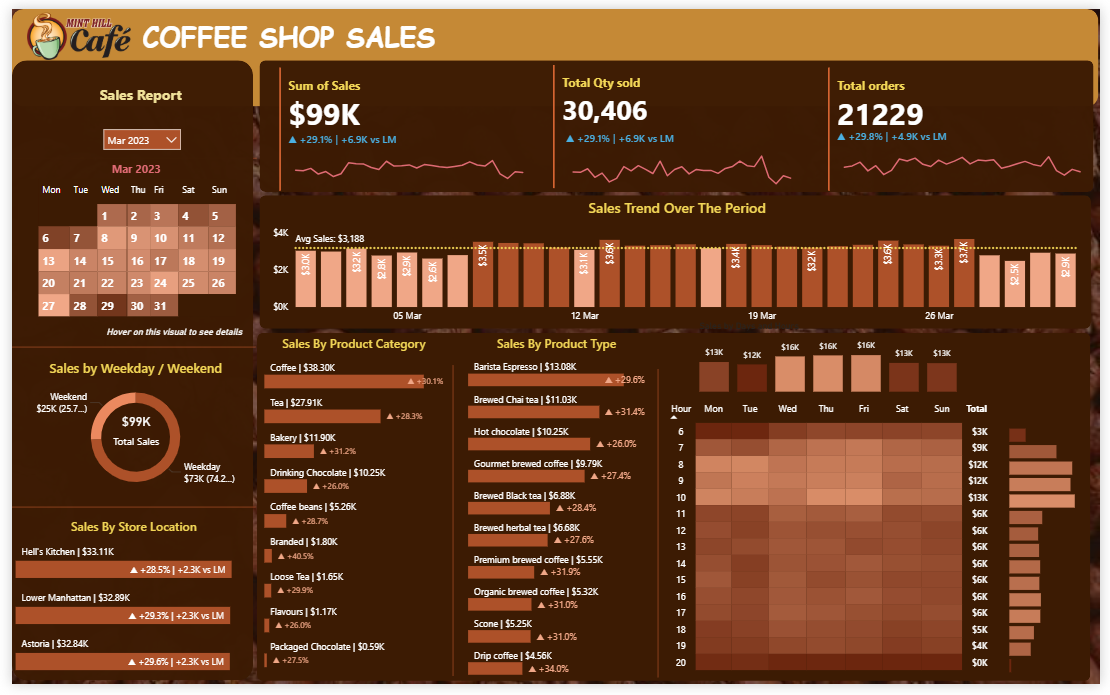

The dashboard page shown, as its layout file describes it:
{"tool":"powerbi","page":{"name":"Dashboard ","canvas":[1450,900],"ordinal":2},"visuals":[{"type":"cardVisual","fields":{"Data":["Sum(Transactions.Sales)"]},"box":[351.4,72.9,350.4,174],"z":0,"group":"g1"},{"type":"shape","box":[1.7,145,325,108.3],"z":0},{"type":"shape","box":[330,248.6,1108.6,178],"z":1000},{"type":"shape","box":[0,0,1448.6,130],"z":2000},{"type":"cardVisual","fields":{"Data":["Transactions.Total oreders"]},"box":[1082.9,72.9,366.2,174.1],"z":2000,"group":"g2"},{"type":"cardVisual","fields":{"Data":["Transactions.Total Qty sold"]},"box":[717.1,70,347.1,174.3],"z":3000,"group":"g3"},{"type":"shape","box":[327.1,431.4,1111.4,464.3],"z":3000},{"type":"shape","box":[330,68.6,1112,175.7],"z":4000},{"type":"lineChart","fields":{"Category":["Date Table.Date Hierarchy.Date"],"Y":["Transactions.Total Sales"]},"box":[362.8,161.5,332.9,80],"z":4000,"group":"g1"},{"type":"shape","box":[0,68.6,321.4,827.1],"z":5000},{"type":"lineChart","fields":{"Category":["Date Table.Date Hierarchy.Date"],"Y":["Transactions.Total oreders"]},"box":[1094.3,158.6,344.3,80],"z":5000,"group":"g2"},{"type":"slicer","fields":{"Values":["Date Table.Month Year"]},"box":[111.7,150,123.3,48.3],"z":6000},{"type":"lineChart","fields":{"Category":["Date Table.Date Hierarchy.Date"],"Y":["Transactions.Total Qty sold"]},"box":[733.8,160,320,80],"z":6000,"group":"g3"},{"type":"pivotTable","fields":{"Rows":["Date Table.Week Number"],"Columns":["Date Table.Day Name"],"Values":["Min(Date Table.Day number)"]},"box":[3.3,221.7,318.6,225.7],"z":6000,"group":"g4"},{"type":"card","fields":{"Values":["Min(Date Table.Month Year)"]},"box":[115,198.3,101.7,35],"z":7000},{"type":"card","fields":{"Values":["Transactions.Foot note"]},"box":[111.9,416,210,35.7],"z":8000,"group":"g4"},{"type":"donutChart","title":"Sales by Weekday / Weekend","fields":{"Category":["Date Table.Weekday / Weekend"],"Y":["Transactions.Total Sales"]},"box":[0,466.7,330,186.7],"z":8000},{"type":"card","fields":{"Values":["Transactions.Total Sales"]},"box":[125,528.3,81.7,63.3],"z":9000},{"type":"clusteredBarChart","title":"Sales By Store Location","fields":{"Category":["Transactions.store_location"],"Y":["Transactions.Place Holder","Transactions.Total Sales"]},"box":[0,678.3,325,211.7],"z":10000},{"type":"columnChart","title":"Sales Trend Over The Period","fields":{"Category":["Transactions.transaction_date"],"Y":["Transactions.Total Sales"]},"box":[342.9,251.4,1087.1,175.7],"z":11000},{"type":"clusteredBarChart","title":"Sales By Product Category ","fields":{"Y":["Transactions.Place Holder","Transactions.Total Sales"],"Category":["Transactions.product_category"]},"box":[331.4,434.3,248.6,448.6],"z":12000},{"type":"clusteredBarChart","title":"Sales By Product Type","fields":{"Y":["Transactions.Place Holder","Transactions.Total Sales"],"Category":["Transactions.product_type"]},"box":[602.9,434.3,245.7,458.6],"z":13000},{"type":"pivotTable","fields":{"Rows":["Transactions.Hour"],"Columns":["Date Table.Day Name"],"Values":["Transactions.Total Sales"]},"box":[868.6,517.1,455.7,382.9],"z":14000},{"type":"barChart","fields":{"Category":["Transactions.Hour"],"Y":["Transactions.Total Sales"]},"box":[1324.3,547.1,114.3,342.9],"z":15000},{"type":"columnChart","title":"Sales by Days and Hours ","fields":{"Y":["Transactions.Total Sales"],"Category":["Date Table.Day Name"]},"box":[911.4,415.7,354.3,101.4],"z":16000},{"type":"group","id":"g1","title":"Group 1","box":[351.4,72.9,350.4,174],"z":17000},{"type":"image","box":[0,0,178.3,73.3],"z":18000},{"type":"group","id":"g2","title":"Group 2","box":[1082.9,72.9,366.2,174.1],"z":19000},{"type":"group","id":"g3","title":"Group 3","box":[717.1,70,347.1,174.3],"z":20000},{"type":"shape","box":[0,610,325,108.3],"z":21000},{"type":"shape","box":[0,396.7,325,108.3],"z":22000},{"type":"shape","box":[551.4,475.7,72.9,414.3],"z":23000},{"type":"shape","box":[825.7,480,72.9,411.4],"z":24000},{"type":"group","id":"g4","title":"Group 4","box":[3.3,221.7,318.3,230],"z":25000},{"type":"textbox","box":[61.7,96.7,220,48.3],"z":26000}]}

Visuals, with their boxes in screenshot pixels (x1, y1, x2, y2), scaled from the page's 1450x900 canvas onto the 1110x695 screenshot:
cardVisual - Sum(Transactions.Sales): BBox(269, 56, 537, 191)
shape: BBox(1, 112, 250, 196)
shape: BBox(253, 192, 1101, 329)
shape: BBox(0, 0, 1109, 100)
cardVisual - Transactions.Total oreders: BBox(829, 56, 1109, 191)
cardVisual - Transactions.Total Qty sold: BBox(549, 54, 815, 189)
shape: BBox(250, 333, 1101, 692)
shape: BBox(253, 53, 1104, 189)
lineChart - Date Table.Date Hierarchy.Date x Transactions.Total Sales: BBox(278, 125, 533, 186)
shape: BBox(0, 53, 246, 692)
lineChart - Date Table.Date Hierarchy.Date x Transactions.Total oreders: BBox(838, 122, 1101, 184)
slicer - Date Table.Month Year: BBox(86, 116, 180, 153)
lineChart - Date Table.Date Hierarchy.Date x Transactions.Total Qty sold: BBox(562, 124, 807, 185)
pivotTable - Date Table.Week Number x Date Table.Day Name: BBox(3, 171, 246, 345)
card - Min(Date Table.Month Year): BBox(88, 153, 166, 180)
card - Transactions.Foot note: BBox(86, 321, 246, 349)
"Sales by Weekday / Weekend" donutChart: BBox(0, 360, 253, 505)
card - Transactions.Total Sales: BBox(96, 408, 158, 457)
"Sales By Store Location" clusteredBarChart: BBox(0, 524, 249, 687)
"Sales Trend Over The Period" columnChart: BBox(262, 194, 1095, 330)
"Sales By Product Category " clusteredBarChart: BBox(254, 335, 444, 682)
"Sales By Product Type" clusteredBarChart: BBox(462, 335, 650, 690)
pivotTable - Transactions.Hour x Date Table.Day Name: BBox(665, 399, 1014, 694)
barChart - Transactions.Hour x Transactions.Total Sales: BBox(1014, 422, 1101, 687)
"Sales by Days and Hours " columnChart: BBox(698, 321, 969, 399)
"Group 1" group: BBox(269, 56, 537, 191)
image: BBox(0, 0, 136, 57)
"Group 2" group: BBox(829, 56, 1109, 191)
"Group 3" group: BBox(549, 54, 815, 189)
shape: BBox(0, 471, 249, 555)
shape: BBox(0, 306, 249, 390)
shape: BBox(422, 367, 478, 687)
shape: BBox(632, 371, 688, 688)
"Group 4" group: BBox(3, 171, 246, 349)
textbox: BBox(47, 75, 216, 112)
